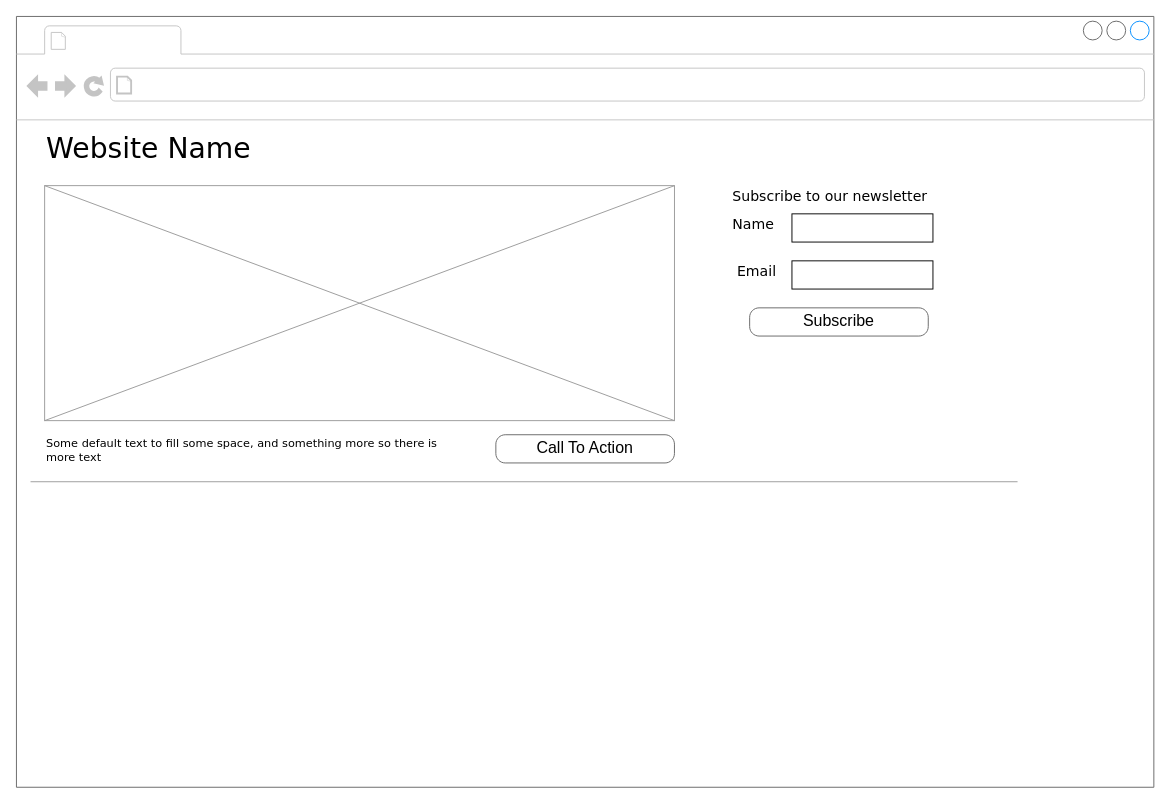
Image size: 1170x804. Some labels were removed from this diagram. Here are the shapes that lost their labels. From the top down, the centre of each, then its label:
At point (124, 39): "Page 1".
At point (256, 84): "https://www.default.com".
